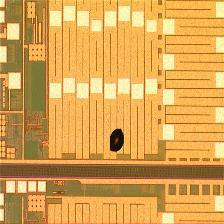PARTICLE: (109, 128, 126, 154)
